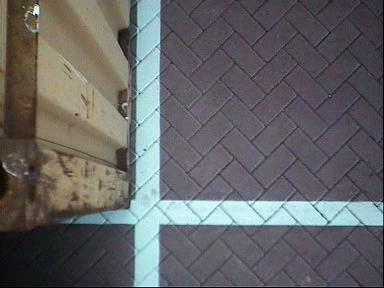groundmarker_2: (158, 122, 225, 238)
